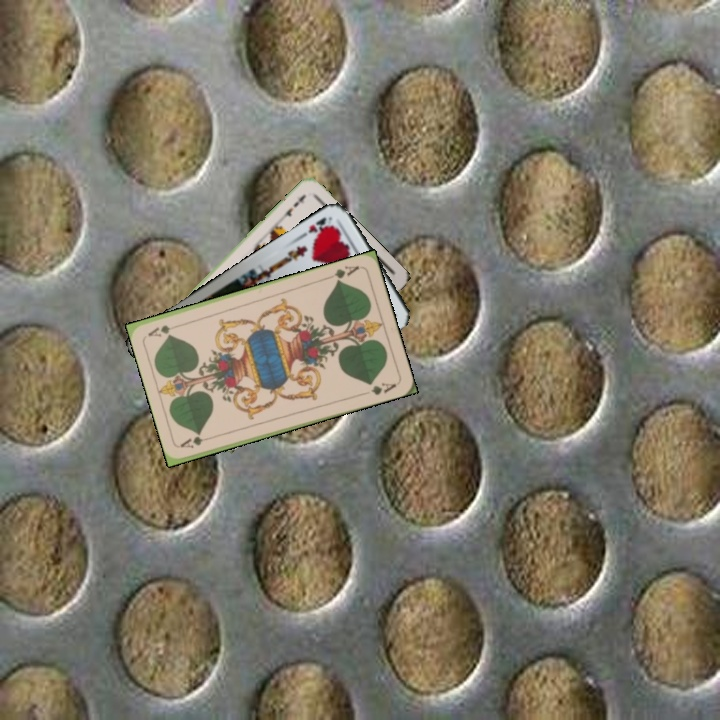E7: (277, 190, 308, 223)
GA: (324, 262, 362, 285), (177, 431, 217, 451)
HK: (297, 213, 336, 240)
